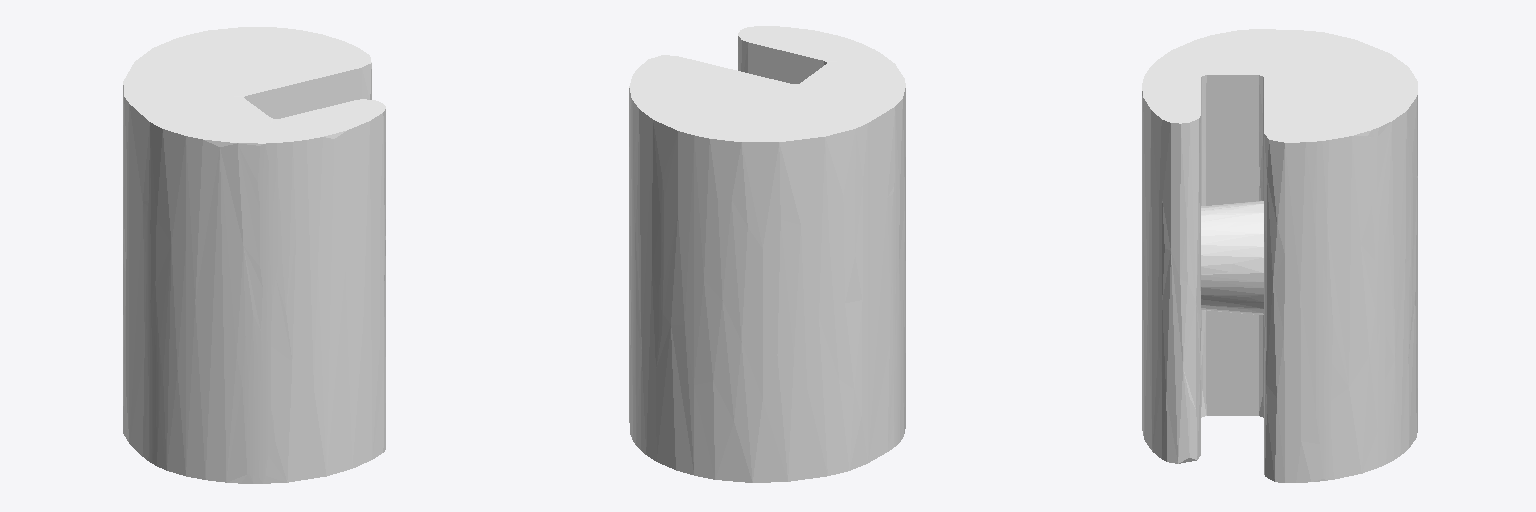
File: tilting_hokuyo.obj
The picture shows the model from 3 angles: view 1: azimuth 30°, elevation 25°; view 2: azimuth 150°, elevation 25°; view 3: azimuth 270°, elevation 25°; orthographic projection.
Size of the model in its own units: 1.17 by 1.63 by 1.2.